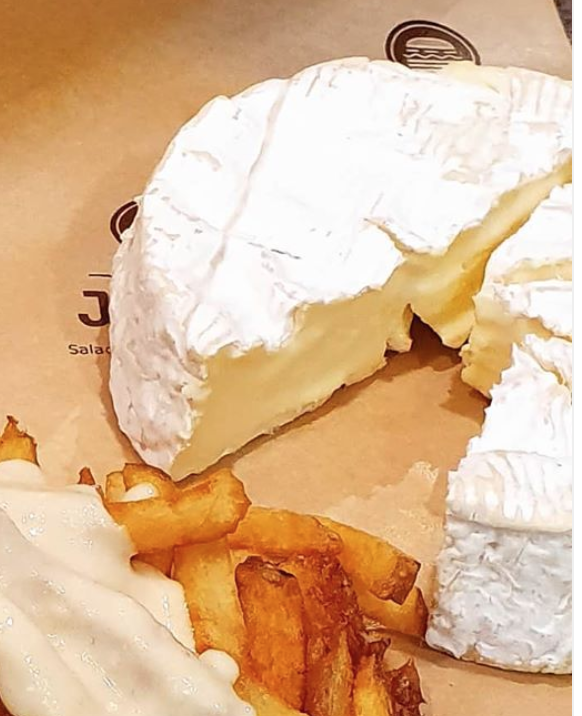camembert: (106, 54, 573, 677)
